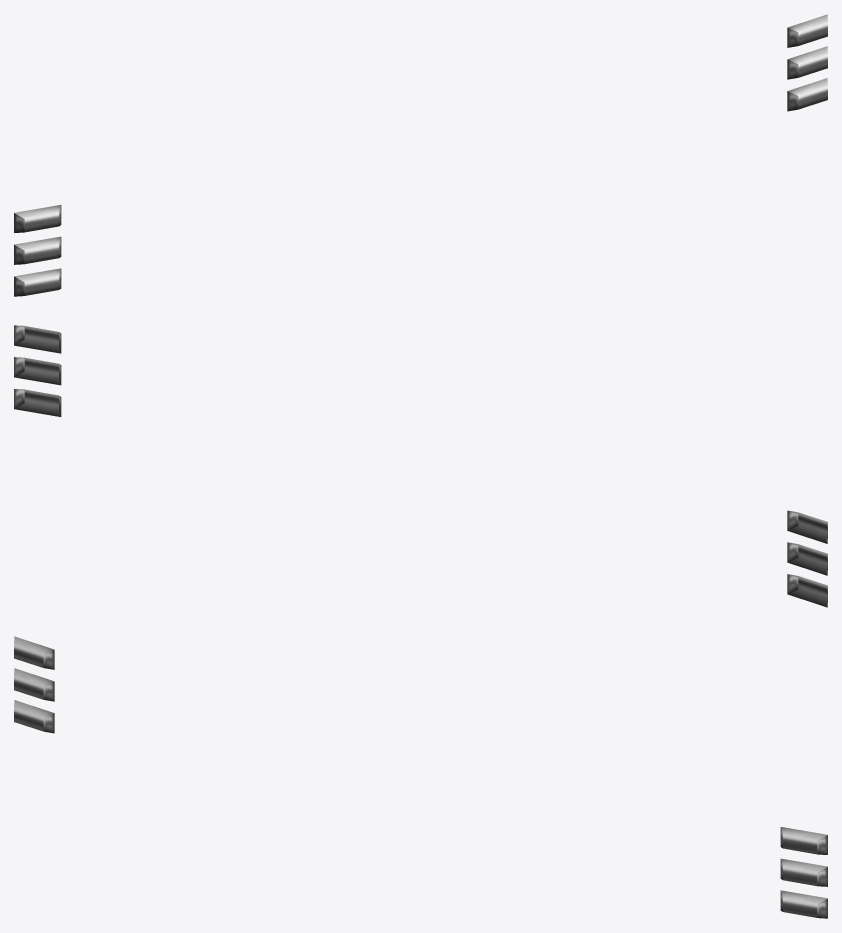
Rendered from bbb_lr_slv2.glb.
3 views of the same model, one above another, from view 1: azimuth 30°, elevation 25°; view 2: azimuth 150°, elevation 25°; view 3: azimuth 330°, elevation 25° (orthographic).
Parts seen in each view (by area): view 1: bbb_lr_slv2; view 2: bbb_lr_slv2; view 3: bbb_lr_slv2.
Boxes of the visible parts, x1,y1,x2,y2 form: bbb_lr_slv2: [14, 14, 827, 296]; bbb_lr_slv2: [14, 325, 827, 607]; bbb_lr_slv2: [14, 636, 827, 918].
Size of the model in its own units: 1.98 by 0.1955 by 0.0335.
Materials: 1 (1 with a texture image).
